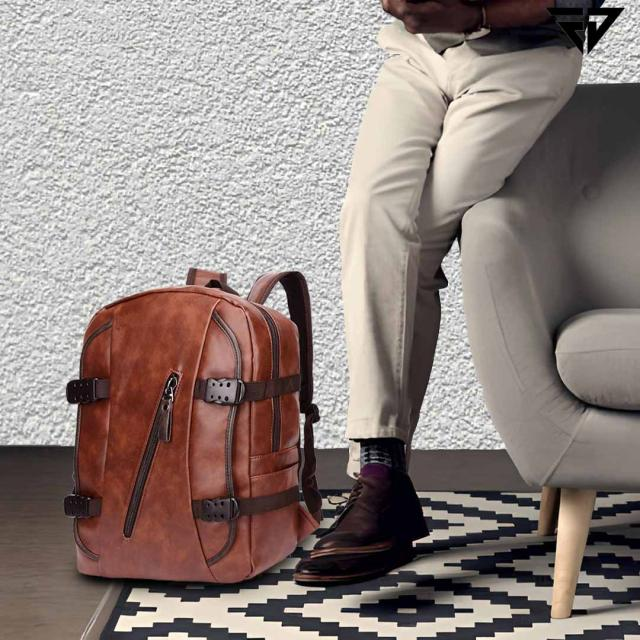backpack: (64, 268, 324, 585)
